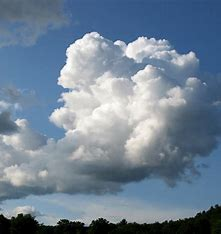Cumulus: (56, 28, 215, 191), (4, 112, 117, 200)
